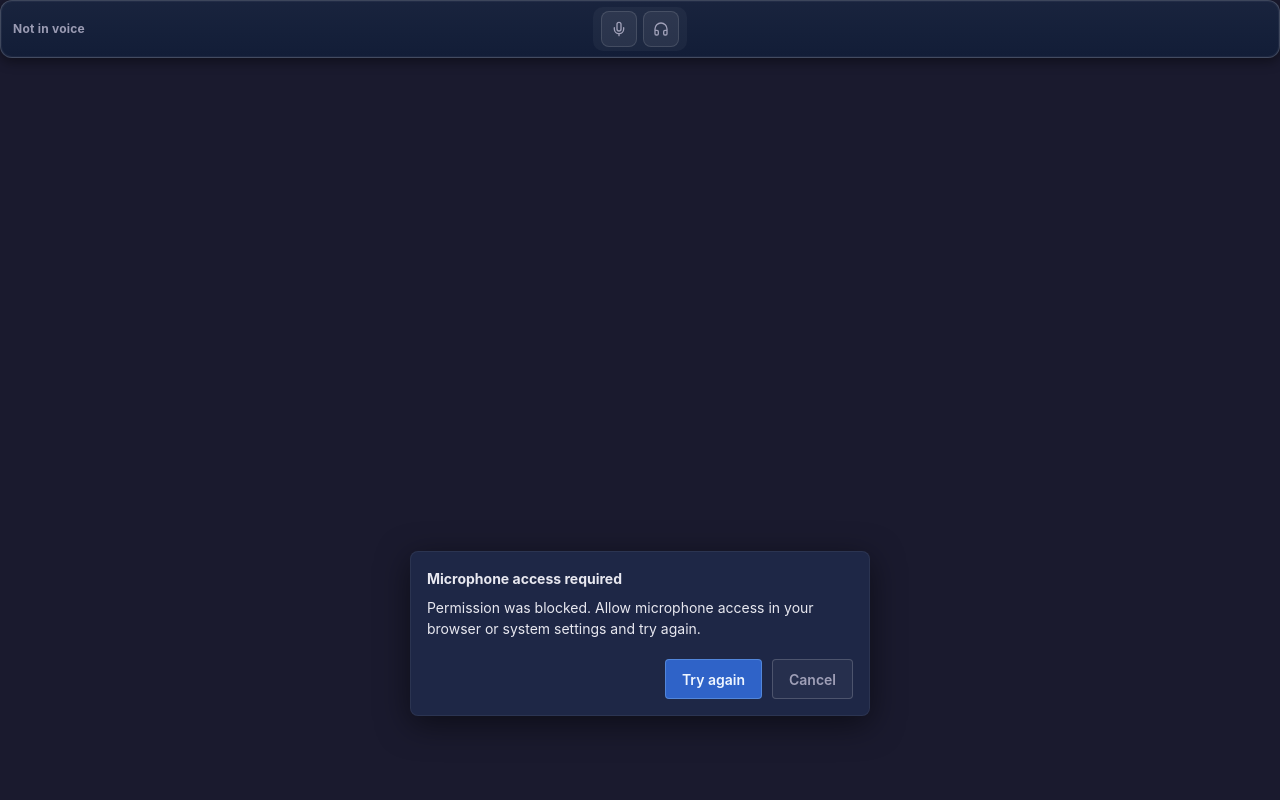
Test: ActiveCallBar regressions › keeps microphone denial visible and retries the original channel only on user action
The width and height of the screenshot is (1280, 800).
Expected: the message "Microphone access required" is shown, [410,551,870,716]
Click the button "Try again".
click(713, 679)  # box [665,659,762,699]
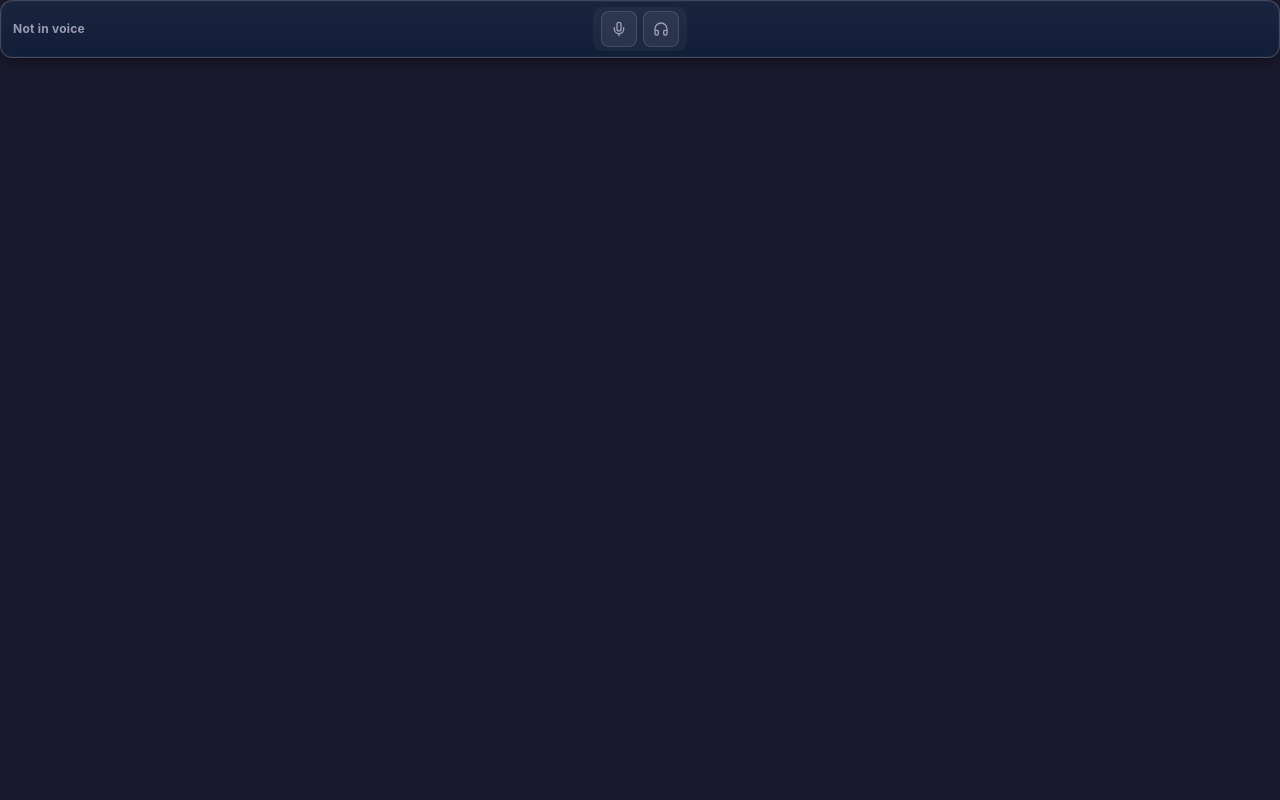
Result: the message is gone
